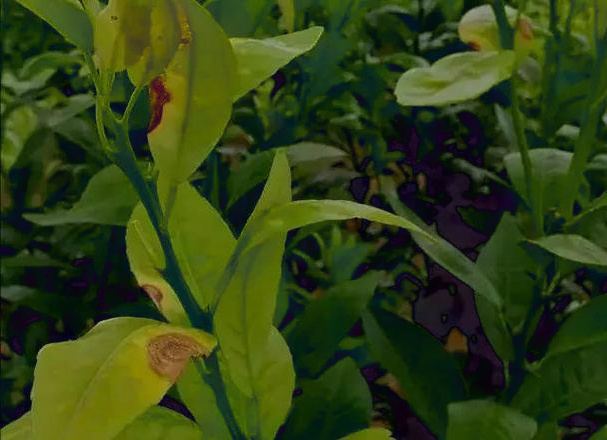Anthracnose: (123, 29, 194, 160), (120, 282, 203, 381)
